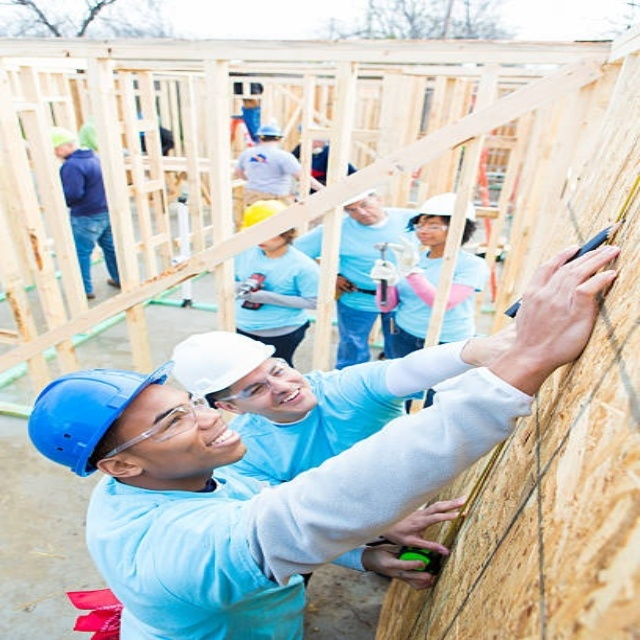Gafas: (105, 390, 202, 459), (220, 353, 290, 404), (411, 221, 452, 234)
Sin_guantes: (497, 237, 631, 368), (380, 489, 480, 548), (362, 541, 433, 595)
Sin_mascara: (190, 418, 254, 462), (275, 384, 312, 416)
